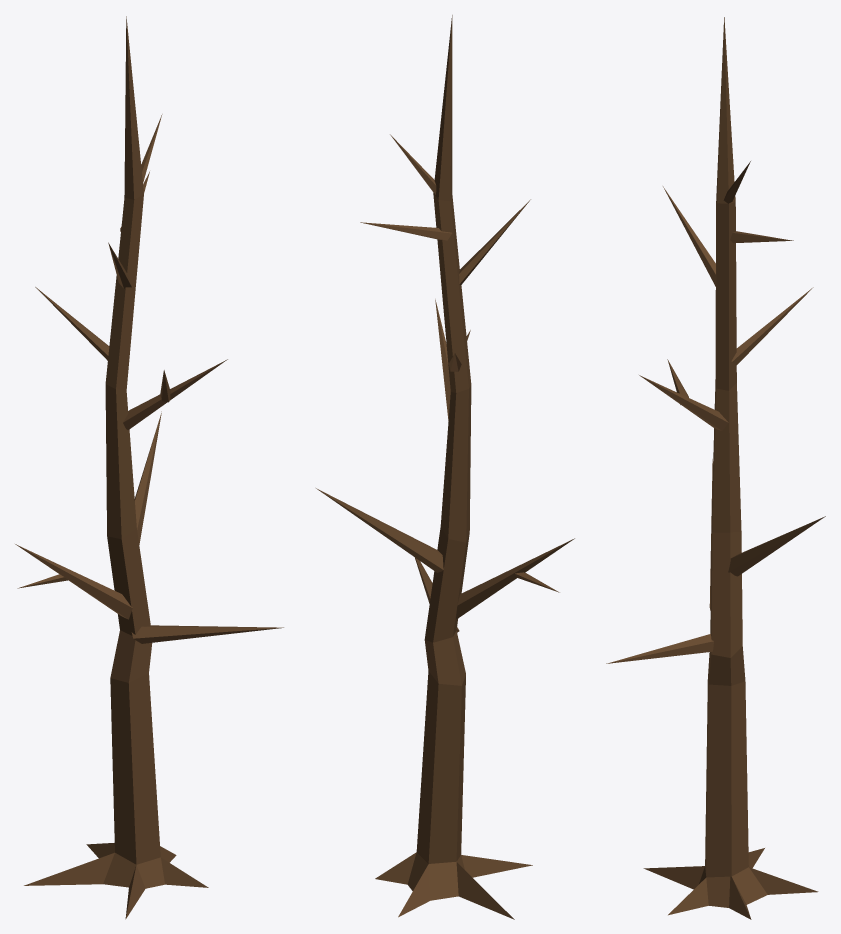
The model's file is tree-dead-2.glb.
3 views of the same model, side by side, from view 1: azimuth 30°, elevation 25°; view 2: azimuth 150°, elevation 25°; view 3: azimuth 270°, elevation 25° (orthographic).
Visible parts, largest first — view 1: tree-dry; view 2: tree-dry; view 3: tree-dry.
Boxes of the visible parts, bbox=[...] form: tree-dry: bbox=[15, 16, 283, 919]; tree-dry: bbox=[316, 15, 574, 919]; tree-dry: bbox=[606, 17, 825, 919].
Size of the model in its own units: 2.21 by 8.37 by 1.92.
